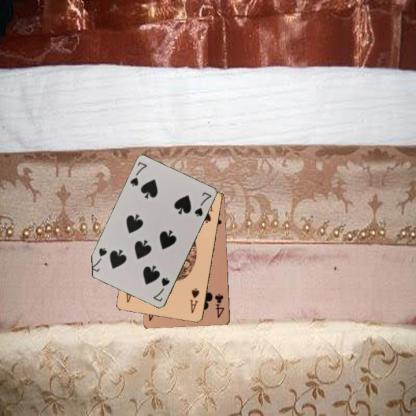4c: (211, 291, 226, 320)
7s: (150, 274, 171, 304), (127, 159, 148, 188)
As: (188, 285, 200, 315)
